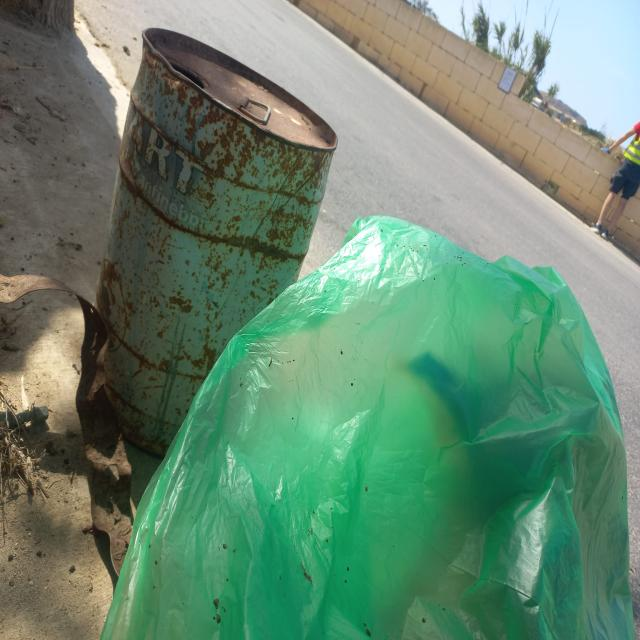Other litter: (89, 31, 341, 460), (0, 272, 136, 577)
Plastic bag - wrapper: (96, 213, 635, 640)
